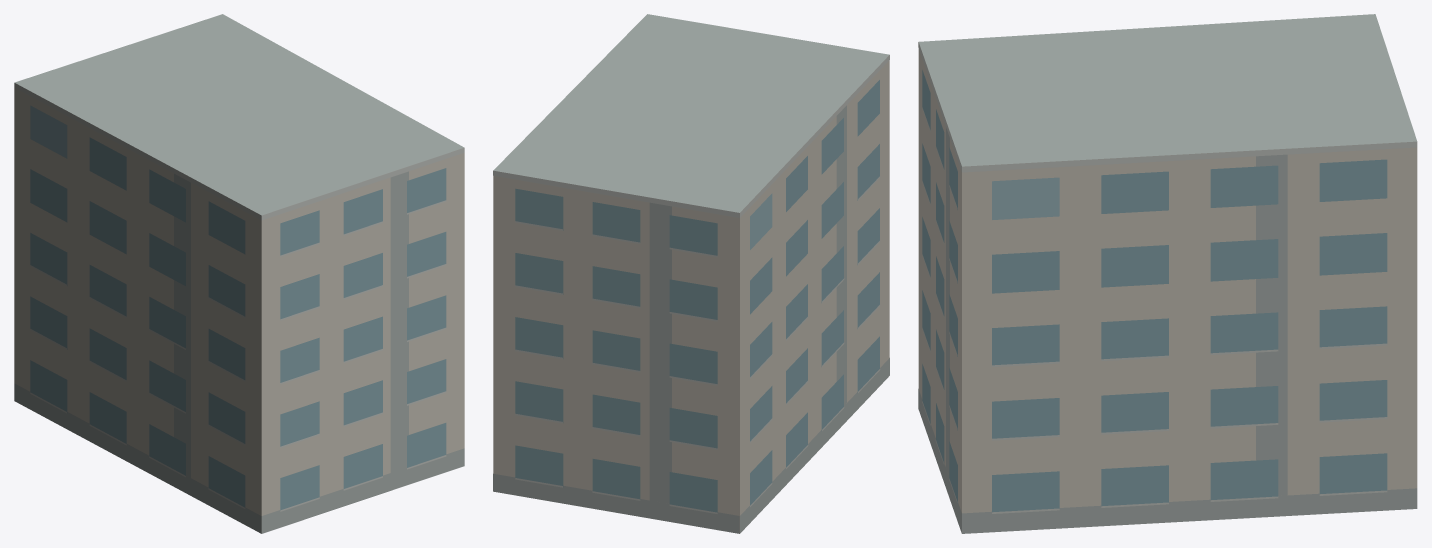
Rendered from survey-upis-32782054.glb.
The picture shows the model from 3 angles, left to right: view 1: azimuth 30°, elevation 25°; view 2: azimuth 150°, elevation 25°; view 3: azimuth 270°, elevation 25°; orthographic projection. The views are drawn at different scales.
Visible parts, largest first — view 1: survey-upis-32782054.tmp; view 2: survey-upis-32782054.tmp; view 3: survey-upis-32782054.tmp.
Part boxes in pixels (<box>): survey-upis-32782054.tmp: <box>14,14,464,533</box>; survey-upis-32782054.tmp: <box>493,14,889,533</box>; survey-upis-32782054.tmp: <box>918,14,1417,533</box>.
Bounding box in the file's own units: 13.6 × 15.25 × 18.78.
